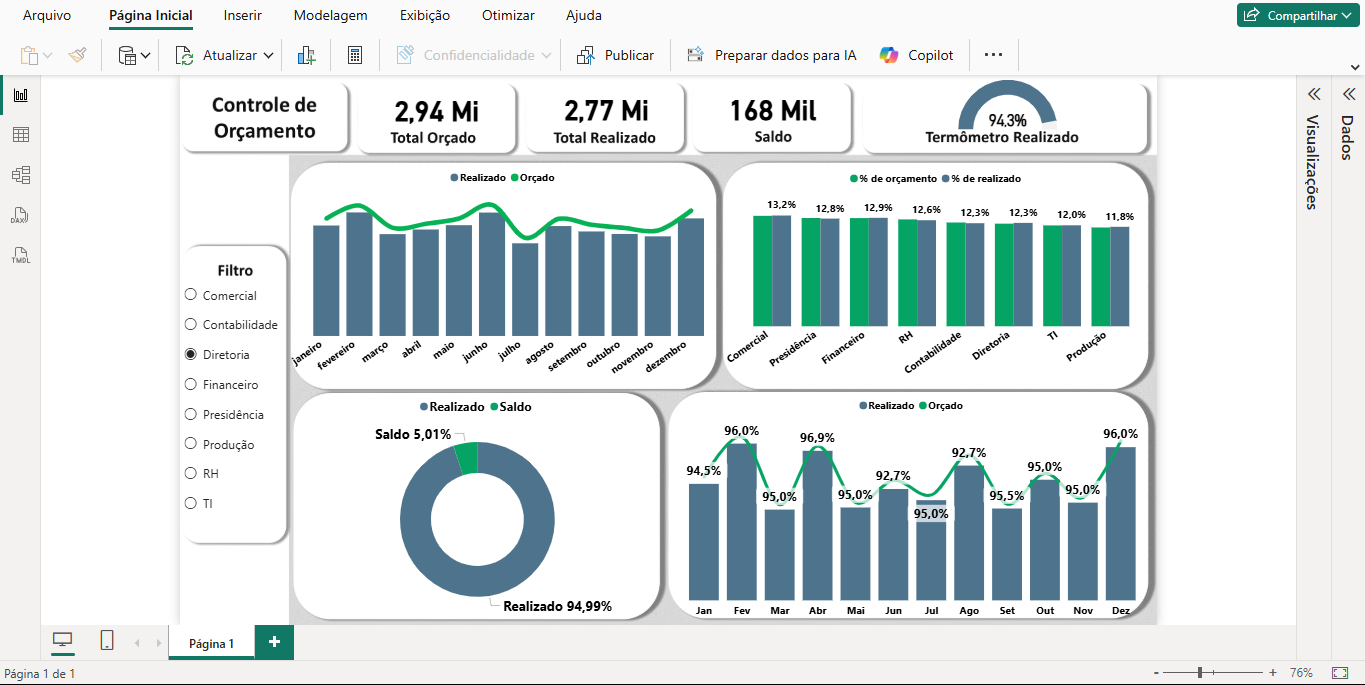

This screenshot's page, from the dashboard's own definition file:
{"tool":"powerbi","page":{"name":"Página 1","canvas":[1280,720],"ordinal":0},"visuals":[{"type":"card","fields":{"Values":["KPIs.Total Realizado"]},"box":[466.6,15.8,184.3,54.7],"z":0},{"type":"card","fields":{"Values":["KPIs.Total Orçado"]},"box":[233.3,14.4,205.9,60.5],"z":1000},{"type":"card","fields":{"Values":["KPIs.Saldo"]},"box":[682.6,13,187.2,60.5],"z":2000},{"type":"gauge","fields":{"Y":["KPIs.% Realizado"]},"box":[892.8,1.4,381.6,74.9],"z":3000},{"type":"lineClusteredColumnComboChart","title":"Orçado vs Realizado","fields":{"Y2":["KPIs.Total Orçado"],"Y":["KPIs.Total Realizado"],"Category":["dCalendario.DATA.Variation.Hierarquia de datas.Mês"]},"box":[139.7,113.8,568.8,298.1],"z":4000},{"type":"clusteredColumnChart","fields":{"Category":["Departamento.Departamento"],"Y":["KPIs.% de orçamento por dept","KPIs.% de realizado por dept"]},"box":[708.5,115.2,565.9,298.1],"z":4001},{"type":"donutChart","fields":{"Y":["KPIs.Realizado","KPIs.Saldo"]},"box":[139,412.9,501,306.9],"z":4002},{"type":"listSlicer","fields":{"Values":["Departamento.Departamento"]},"box":[0,263.5,139.7,322.6],"z":4003},{"type":"lineClusteredColumnComboChart","fields":{"Category":["dCalendario.MêsAbrev"],"Y":["KPIs.Realizado"],"Y2":["KPIs.Orçado"]},"box":[640.8,411.8,635,306.7],"z":4004}]}

Visuals, with their boxes on the page's 1280x720 design canvas (x1, y1, x2, y2). These are canvas units, not pixel positions in the 1365x685 screenshot, which may show the page scaled, cropped or inside an application window:
card - KPIs.Total Realizado: {"x1": 467, "y1": 16, "x2": 651, "y2": 70}
card - KPIs.Total Orçado: {"x1": 233, "y1": 14, "x2": 439, "y2": 75}
card - KPIs.Saldo: {"x1": 683, "y1": 13, "x2": 870, "y2": 74}
gauge - KPIs.% Realizado: {"x1": 893, "y1": 1, "x2": 1274, "y2": 76}
"Orçado vs Realizado" lineClusteredColumnComboChart: {"x1": 140, "y1": 114, "x2": 708, "y2": 412}
clusteredColumnChart - Departamento.Departamento x KPIs.% de orçamento por dept: {"x1": 708, "y1": 115, "x2": 1274, "y2": 413}
donutChart - KPIs.Realizado x KPIs.Saldo: {"x1": 139, "y1": 413, "x2": 640, "y2": 720}
listSlicer - Departamento.Departamento: {"x1": 0, "y1": 264, "x2": 140, "y2": 586}
lineClusteredColumnComboChart - dCalendario.MêsAbrev x KPIs.Realizado: {"x1": 641, "y1": 412, "x2": 1276, "y2": 718}
